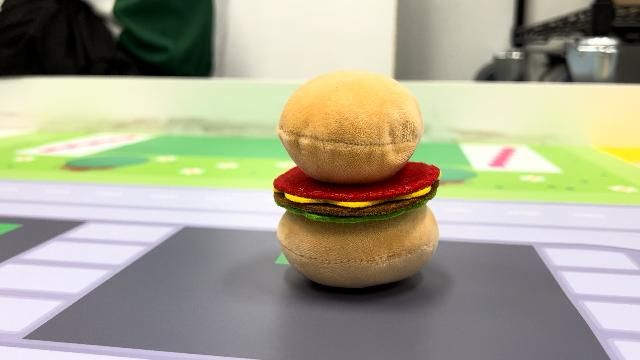burger: (267, 65, 447, 291)
